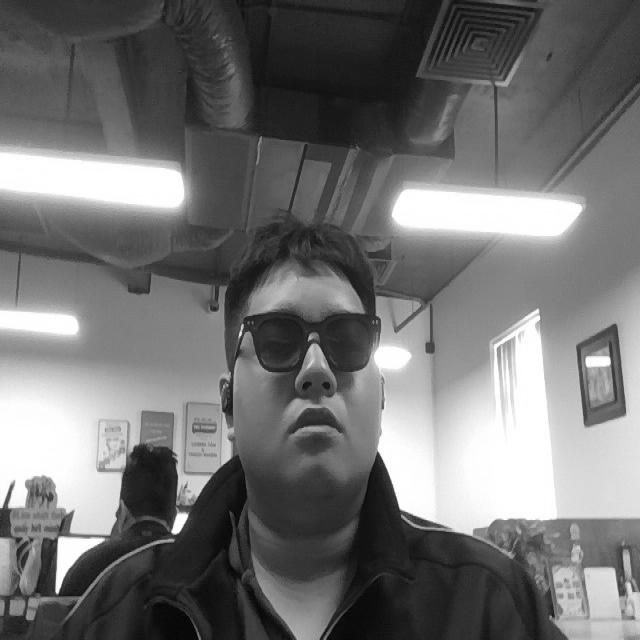fake: (235, 304, 385, 383)
real: (221, 217, 389, 518)
